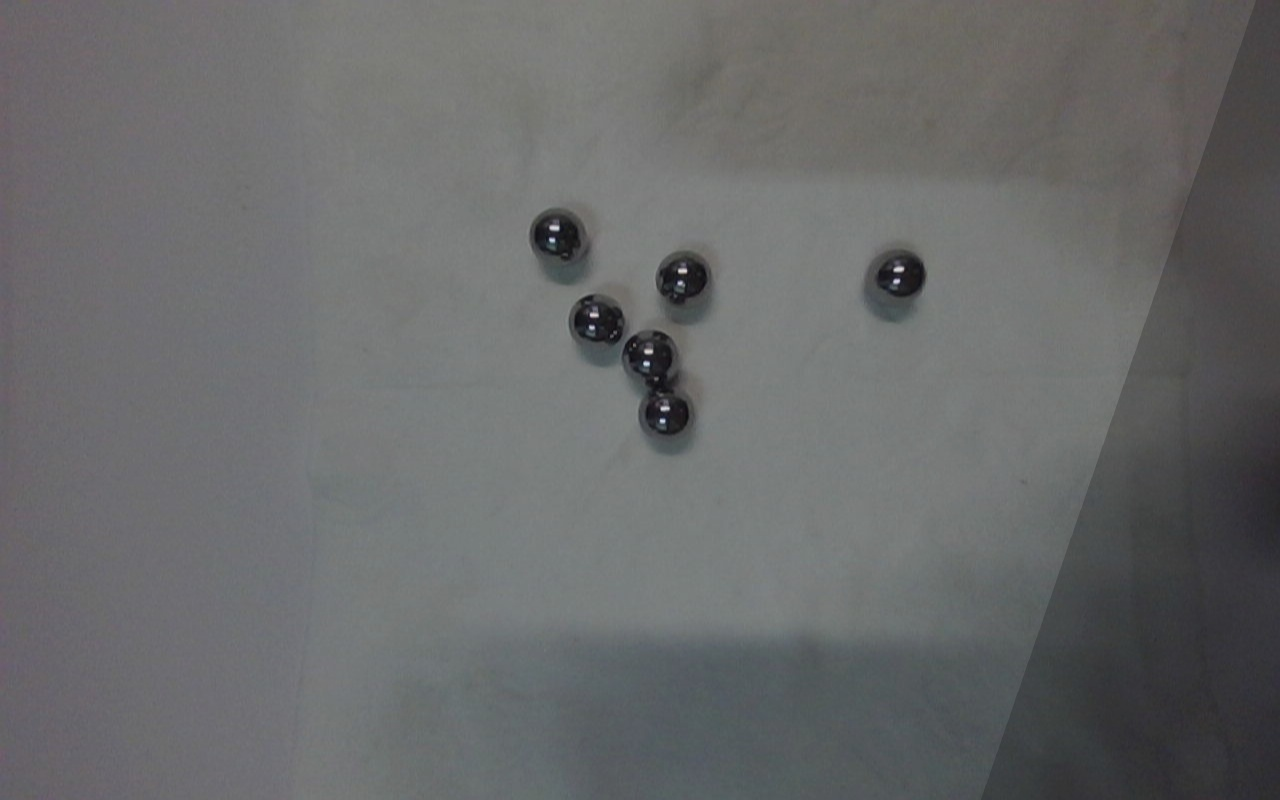ball: (617, 321, 688, 394), (651, 242, 717, 314), (865, 242, 931, 313), (526, 203, 592, 273), (634, 381, 702, 448), (568, 288, 626, 353)
